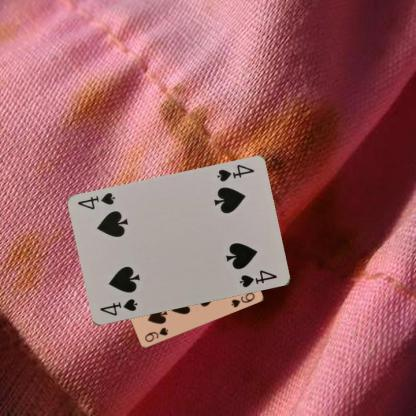4s: (97, 296, 139, 318), (214, 162, 255, 183)
9s: (142, 325, 169, 343)
